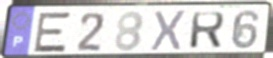2: (75, 11, 107, 52)
6: (230, 9, 261, 51)
8: (113, 9, 147, 53)
E: (31, 11, 73, 54)
R: (188, 11, 227, 50)
X: (149, 9, 188, 53)
